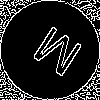M: (25, 25, 85, 86)
